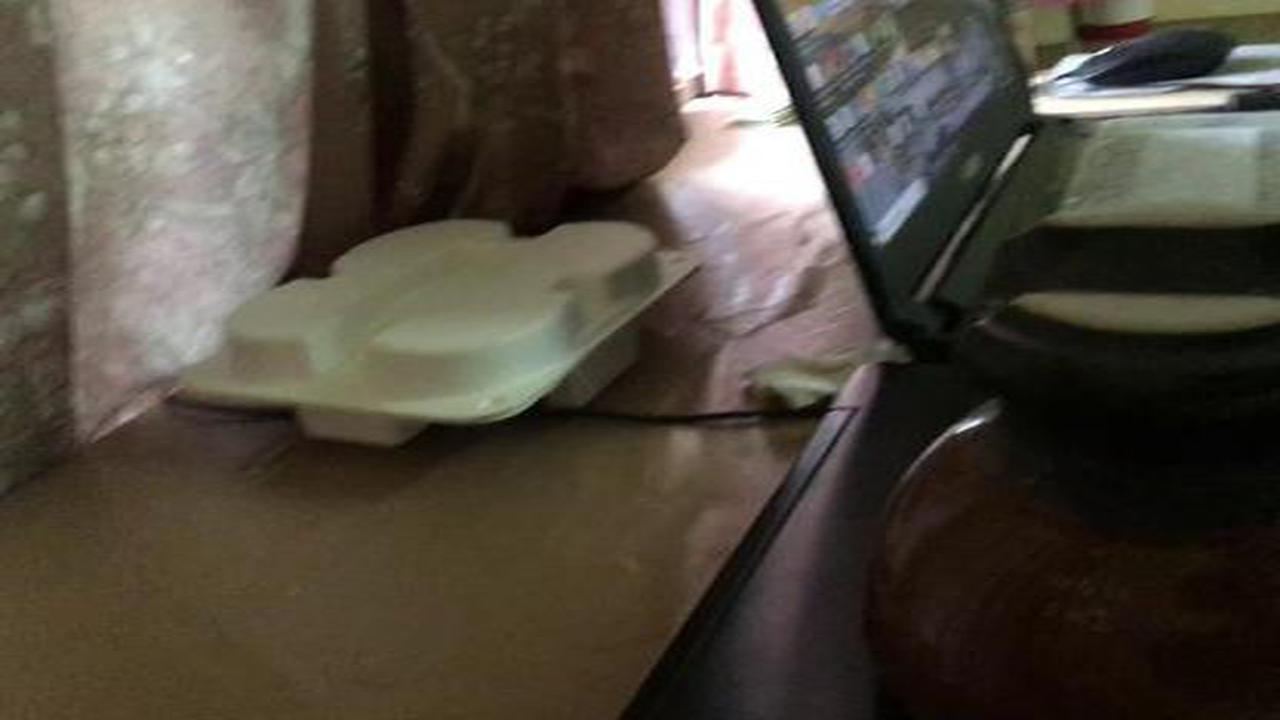insulator_pin: (862, 184, 1274, 717)
